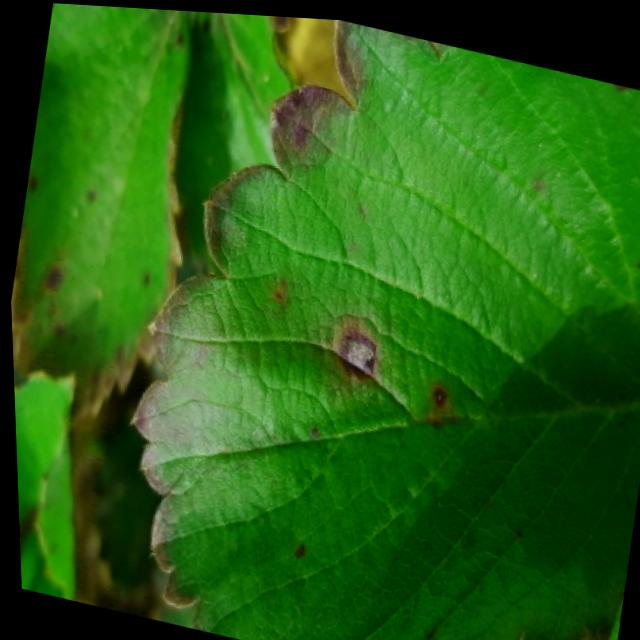Leaf Spot: (122, 15, 640, 640), (8, 3, 191, 425), (176, 9, 305, 276)
